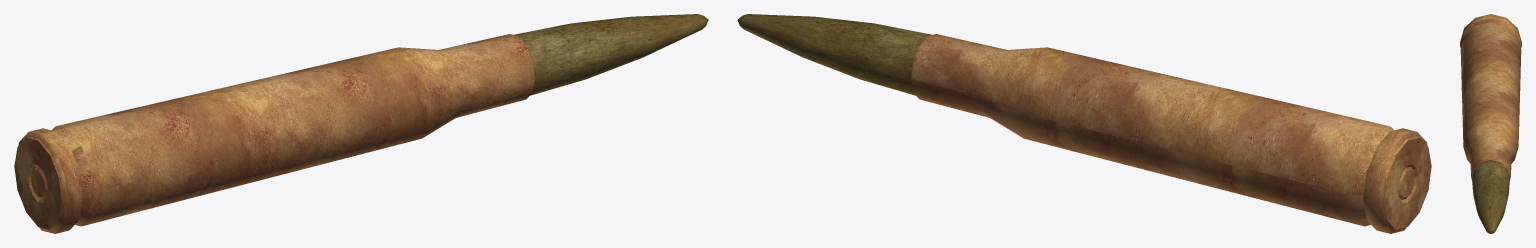
File: Bullet.FBX
3 views of the same model, side by side, from view 1: azimuth 30°, elevation 25°; view 2: azimuth 150°, elevation 25°; view 3: azimuth 270°, elevation 25° (orthographic). The views are drawn at different scales.
Visible parts, largest first — view 1: Cylinder001, Sphere001; view 2: Cylinder001, Sphere001; view 3: Cylinder001, Sphere001.
Boxes of the visible parts, x1,y1,x2,y2 form: Cylinder001: (14, 34, 534, 233); Sphere001: (513, 14, 708, 95); Cylinder001: (911, 34, 1431, 233); Sphere001: (737, 14, 932, 95); Cylinder001: (1460, 14, 1521, 179); Sphere001: (1472, 161, 1509, 233).
Size of the model in its own units: 204 by 27.78 by 27.78.
Materials: 2 (2 with a texture image).
